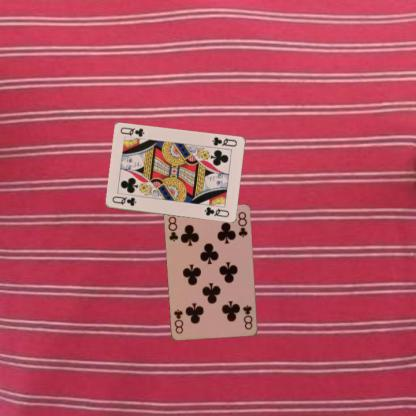8c: (240, 303, 255, 331), (166, 214, 180, 243)
Qc: (109, 194, 137, 208), (209, 135, 238, 148)
